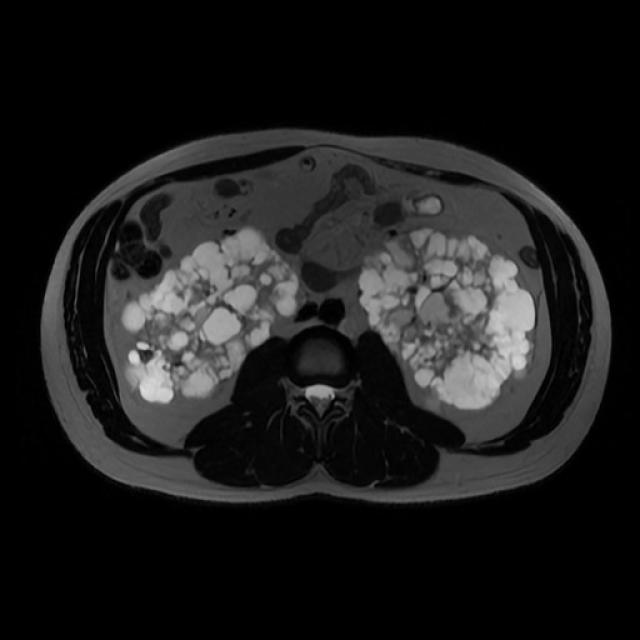sag: (121, 226, 307, 406)
sol: (357, 227, 537, 410)
